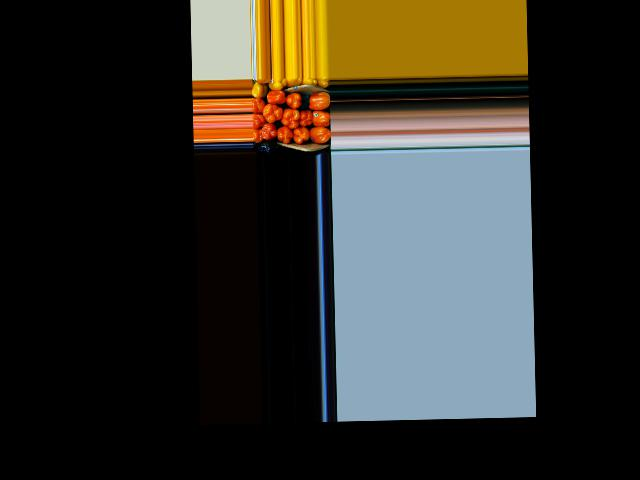bell_pepper: (267, 79, 289, 90)
